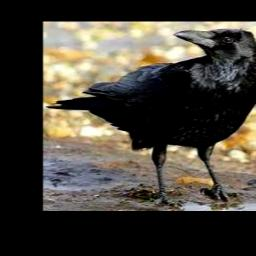Crow: (45, 28, 256, 206)
